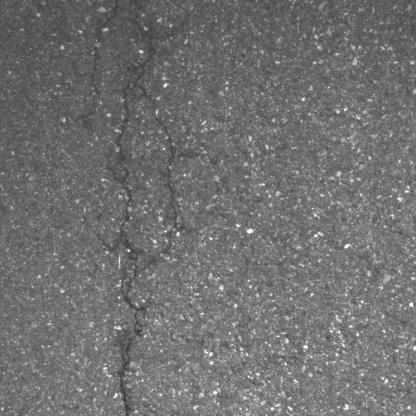Cracks: (112, 43, 183, 416)
